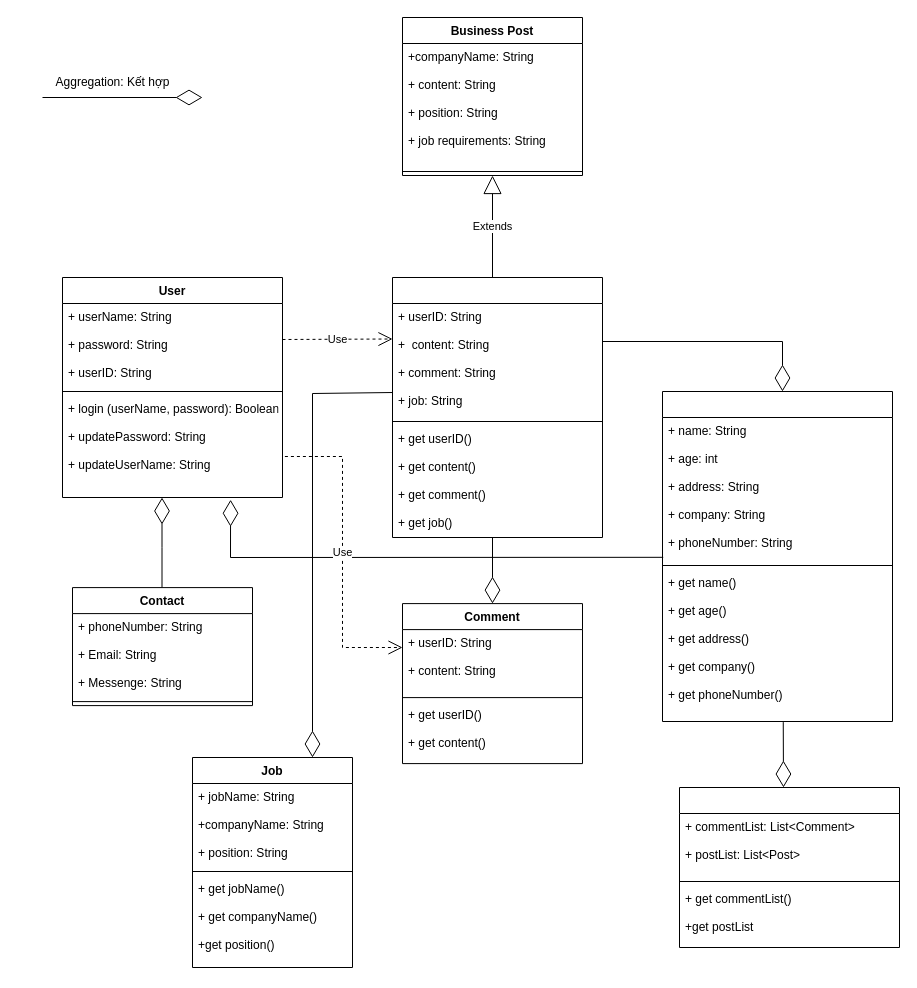
This 917x988 diagram has some shape labels left out. The shapes that lost their labels are listed below. From the top down, each one's box as (x1, y1, x2, y2) in pixels, then its label:
(392, 276, 602, 538): Post
(662, 390, 892, 722): Profile
(678, 786, 900, 948): Activity
